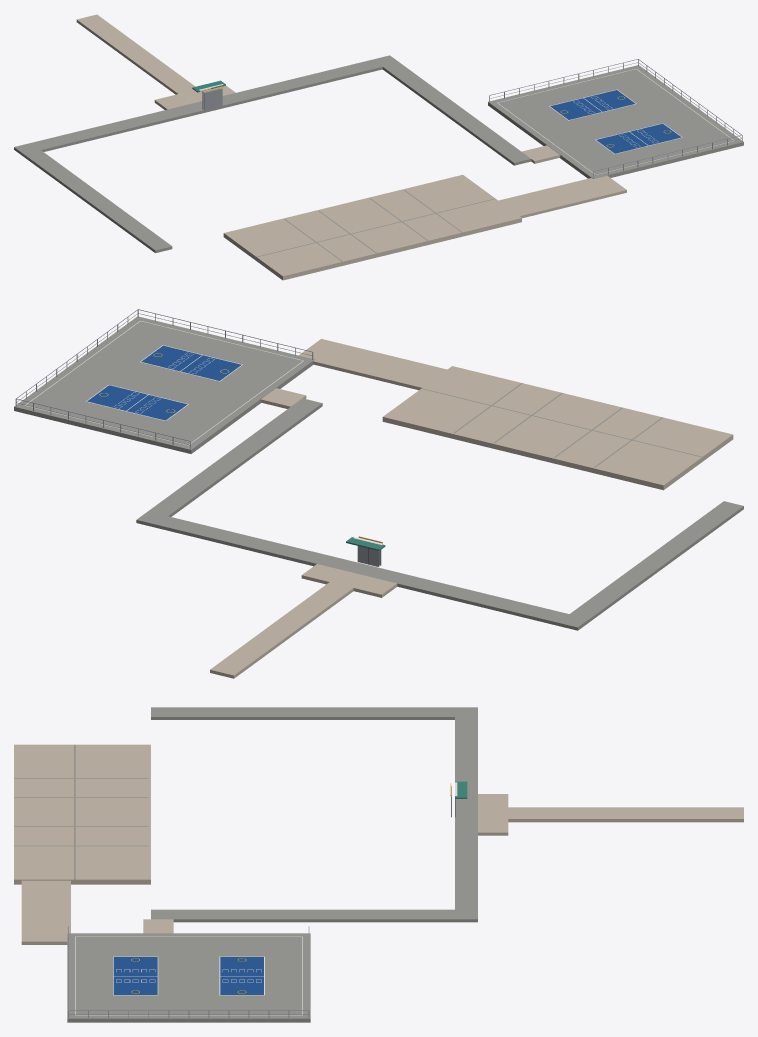
The model's file is SM_Gym_Grounds.fbx.
The picture shows the model from 3 angles, top to bottom: view 1: azimuth 30°, elevation 25°; view 2: azimuth 150°, elevation 25°; view 3: azimuth 270°, elevation 25°; orthographic projection. The views are drawn at different scales.
Parts seen in each view (by area): view 1: SM_Gym_Grounds; view 2: SM_Gym_Grounds; view 3: SM_Gym_Grounds.
Part boxes in pixels (left/top/right/bottom): SM_Gym_Grounds: left=14, top=14, right=743, bottom=280; SM_Gym_Grounds: left=14, top=309, right=743, bottom=678; SM_Gym_Grounds: left=14, top=707, right=743, bottom=1022.
Bounding box in the file's own units: 97 × 4.05 × 96.
